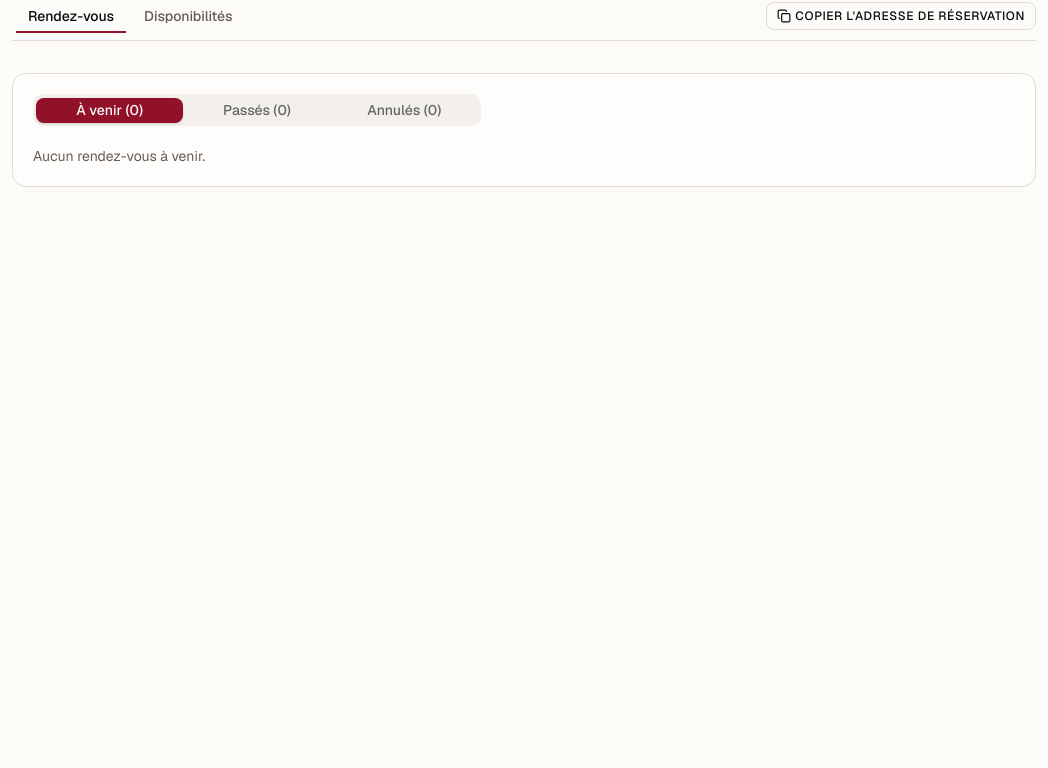
Test: RdvManager › affiche le message de la base quand l'enregistrement échoue
Click the tab "Disponibilités" at (188, 16), box top-left (131, 4), bottom-right (246, 28)
(page scrolled)
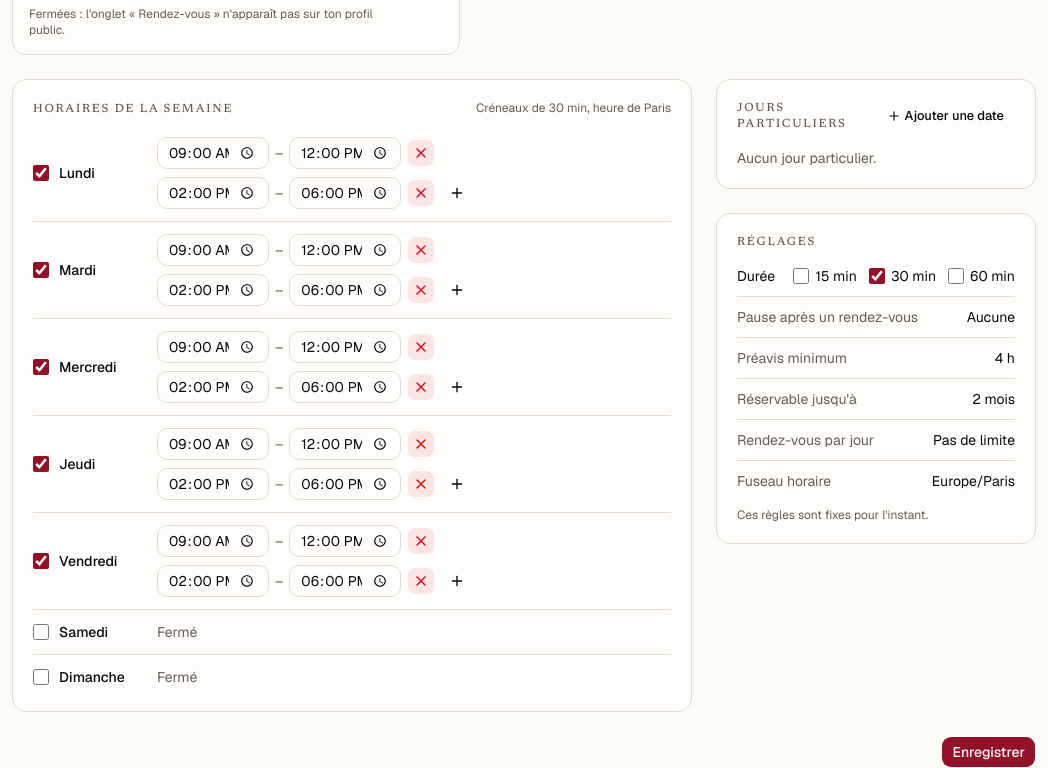
Click the button "Enregistrer" at (989, 752), box top-left (942, 736), bottom-right (1036, 767)
(page scrolled)
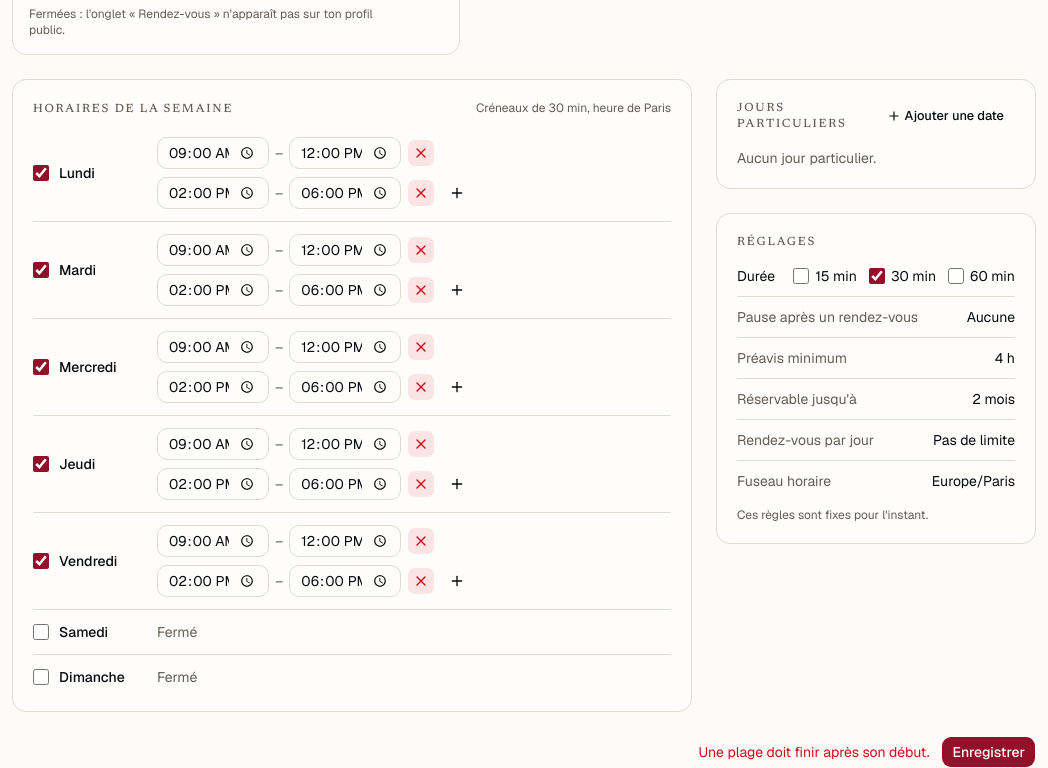
Check: the message reads "Une plage doit finir après son début.", box top-left (698, 743), bottom-right (930, 761)
